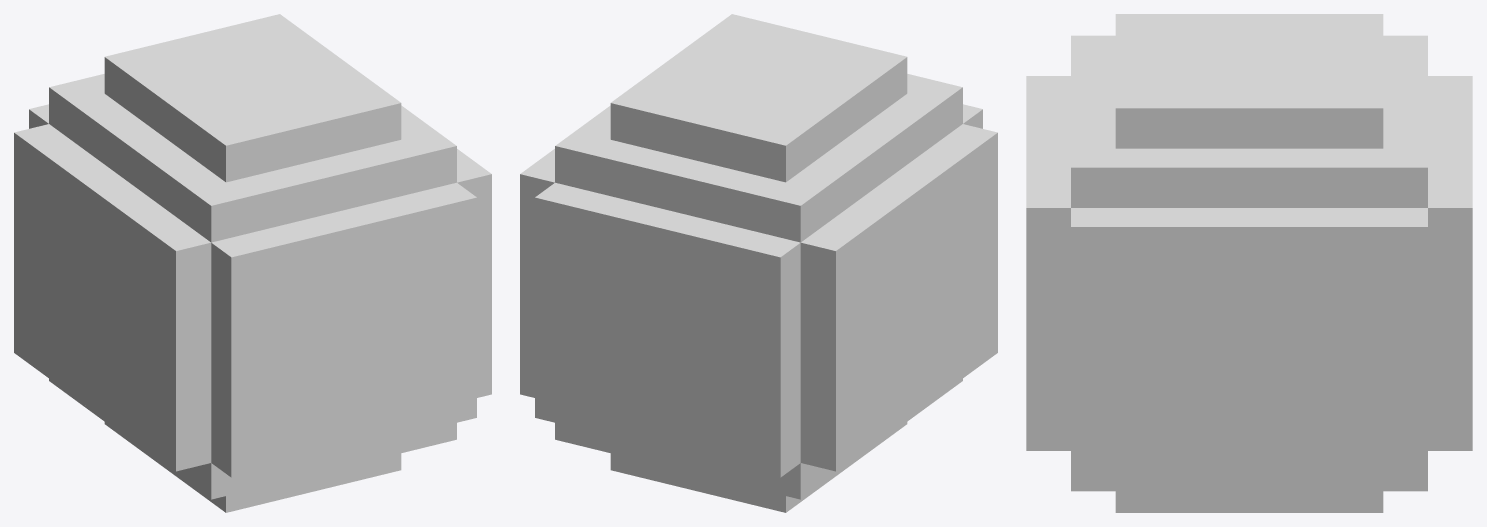
File: alien_egg1.fbx
3 renders of one model, left to right at view 1: azimuth 30°, elevation 25°; view 2: azimuth 150°, elevation 25°; view 3: azimuth 270°, elevation 25°, orthographic. The views are drawn at different scales.
Parts seen in each view (by area): view 1: alien_egg1; view 2: alien_egg1; view 3: alien_egg1.
Part boxes in pixels (<box>): alien_egg1: <box>14,14,491,512</box>; alien_egg1: <box>520,14,997,512</box>; alien_egg1: <box>1026,14,1472,512</box>.
Size of the model in its own units: 0.9 by 1 by 1.
Materials: 1 (1 with a texture image).
